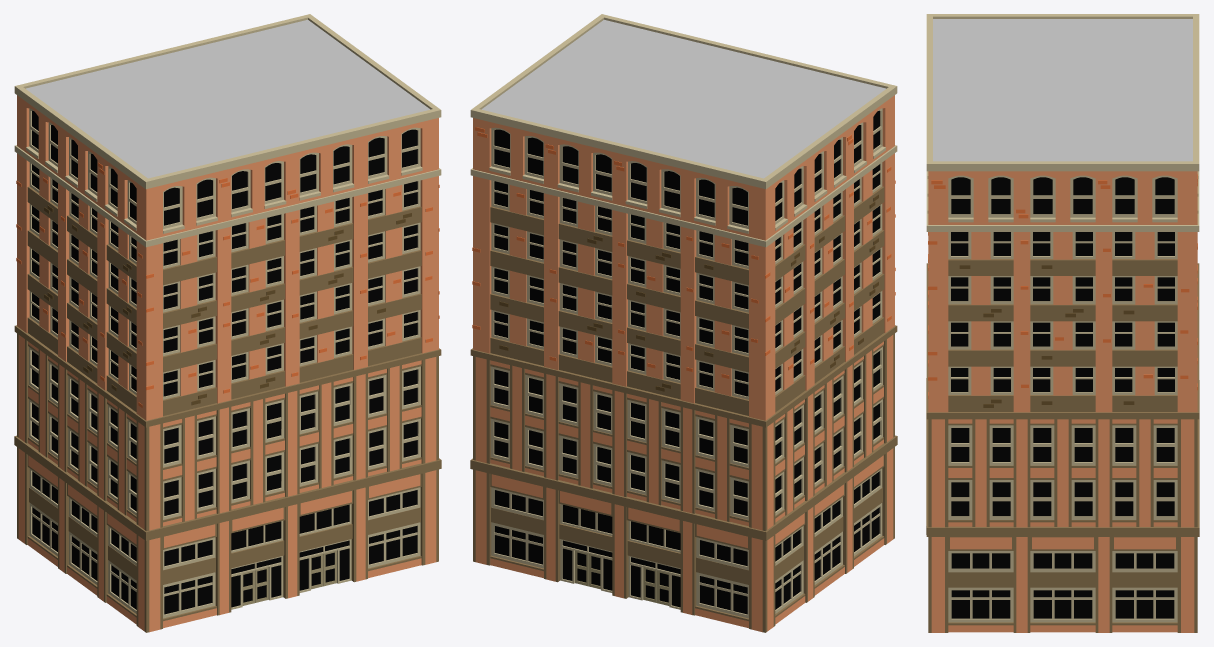
File: NeoClassical-04.fbx
3 views of the same model, side by side, from view 1: azimuth 30°, elevation 25°; view 2: azimuth 150°, elevation 25°; view 3: azimuth 270°, elevation 25° (orthographic). The views are drawn at different scales.
Parts seen in each view (by area): view 1: Building; view 2: Building; view 3: Building.
Part boxes in pixels (box(x1,y1,x2,y2)): Building: box(14, 14, 441, 632); Building: box(470, 14, 897, 632); Building: box(926, 14, 1199, 632).
Size of what is drawn, in the model's own units: 21.33 by 31.1 by 16.41.
